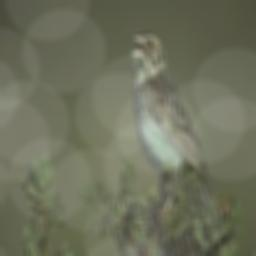Sparrow: (128, 19, 220, 240)
